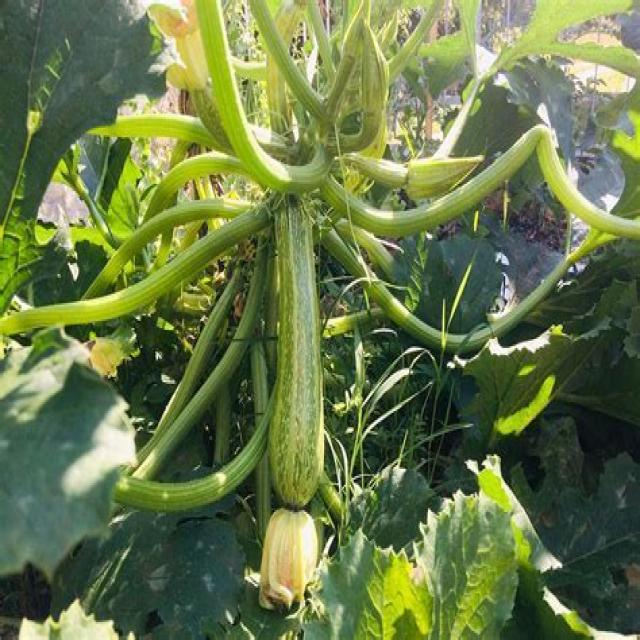Zucchini: (272, 209, 326, 503)
